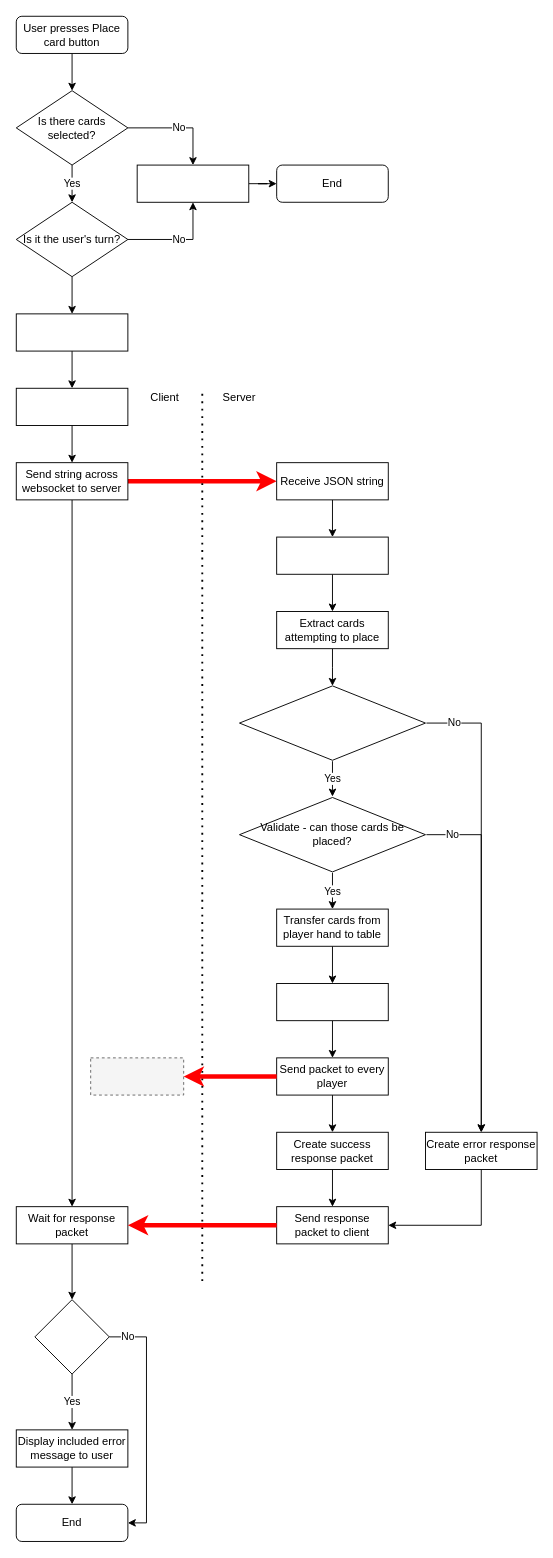
Some shapes in this 553 by 1558 pixel diagram are drawn without their labels. The centre of each missing label's shape, as x and y in pixels:
"Create packet indicating cards have been placed on table" goes at point (332, 1002).
"Create PlaceCards packet" goes at point (71, 332).
"Deserialise to packet object" goes at point (332, 555).
"Display error message to user" goes at point (192, 183).
"Does the player have every card they are attempting to place?" goes at point (332, 722).
"handled asynchronously" goes at point (137, 1076).
"Is error?" goes at point (71, 1336).
"Serialise packet to string" goes at point (71, 406).
